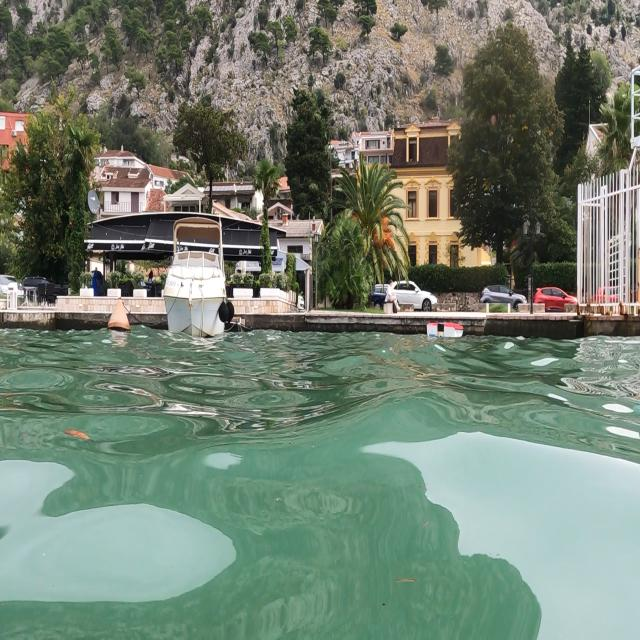boat: (162, 212, 230, 340)
buoy: (104, 291, 133, 336)
